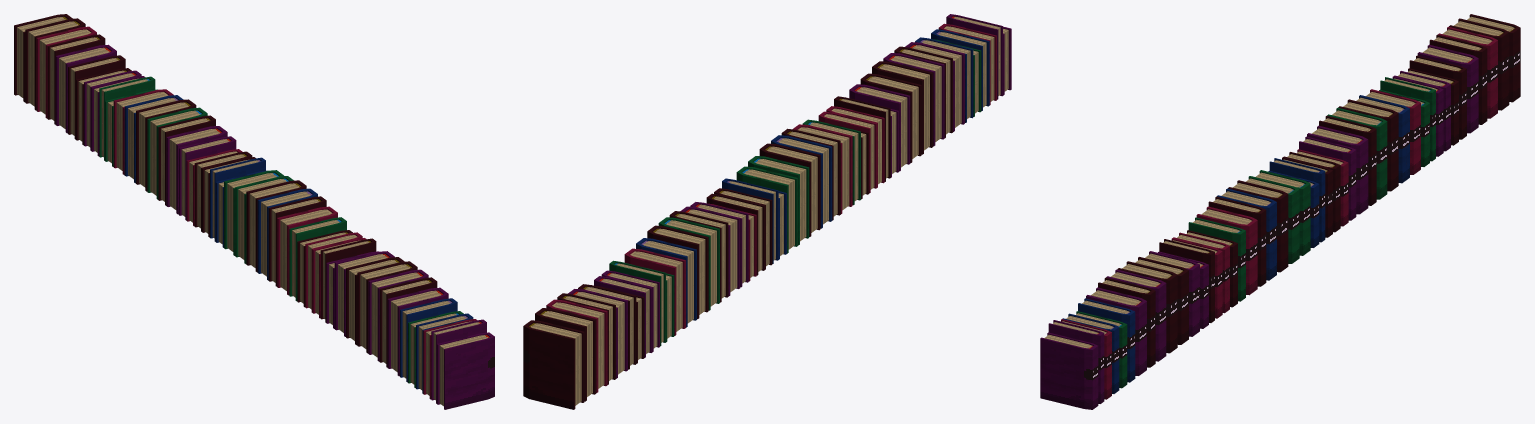
Rendered from E_Books.7.fbx.
3 renders of one model, left to right at view 1: azimuth 30°, elevation 25°; view 2: azimuth 150°, elevation 25°; view 3: azimuth 330°, elevation 25°, orthographic.
Parts seen in each view (by area): view 1: Cube.015; view 2: Cube.015; view 3: Cube.015.
Boxes of the visible parts, x1,y1,x2,y2 form: Cube.015: [14, 14, 494, 409]; Cube.015: [523, 14, 1011, 409]; Cube.015: [1040, 14, 1520, 409].
Bounding box in the file's own units: 37.81 × 51.57 × 552.
